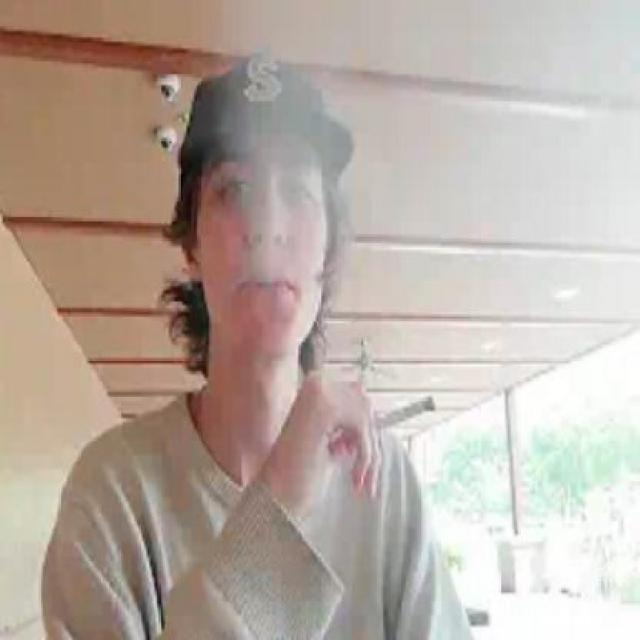smoke: (352, 378, 445, 452)
